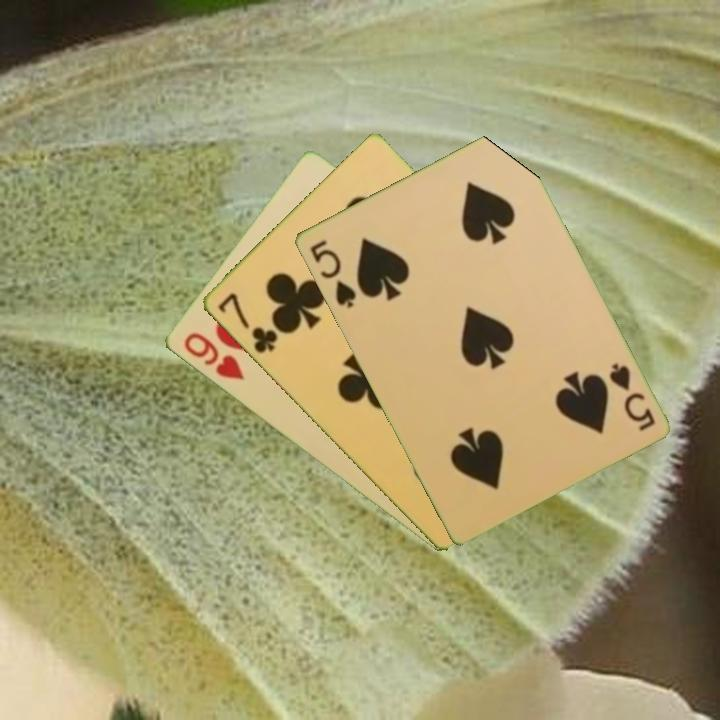5s: (305, 236, 359, 311), (604, 359, 658, 434)
7c: (214, 289, 280, 357)
9h: (179, 329, 246, 384)
